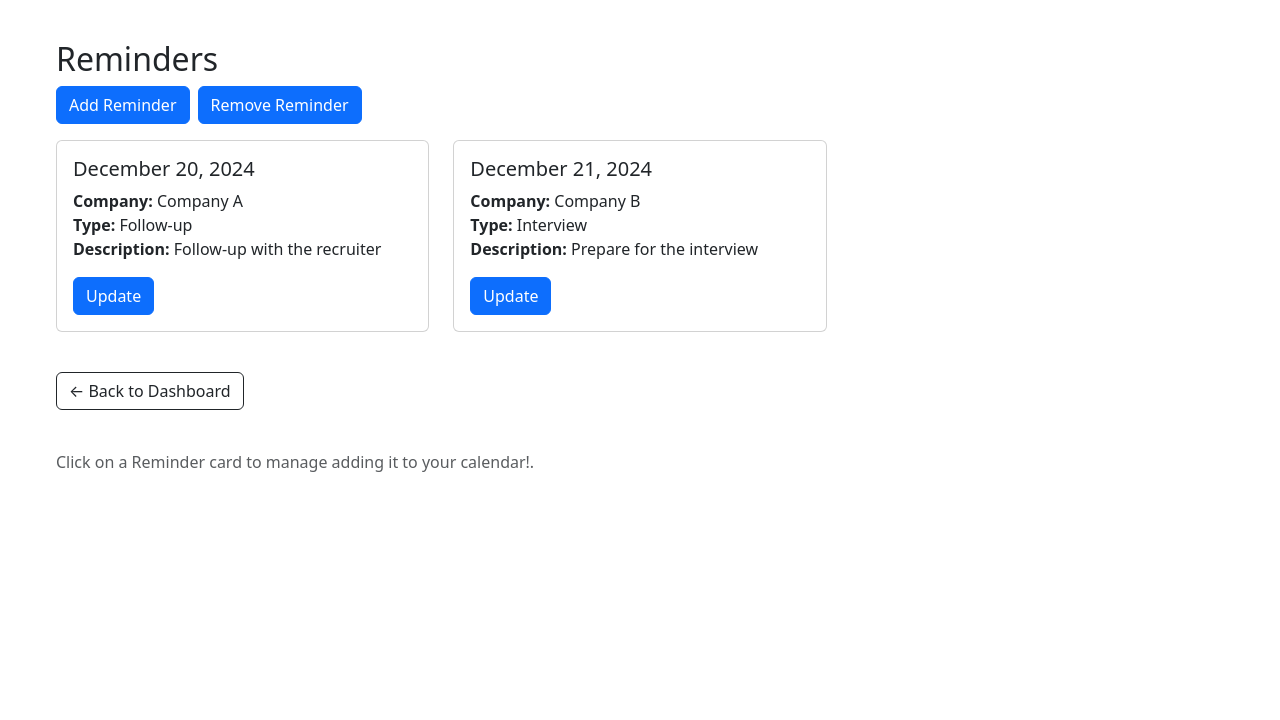
it: ReminderList › removes a reminder when the delete button is clicked
The width and height of the screenshot is (1280, 720).
Expected: the heading "Reminders" is shown, left=56, top=37, right=218, bottom=80
What coordinates should you click on to do the following:
click the button "Remove Reminder"
I would click on:
 (280, 105)
Its box is left=198, top=86, right=362, bottom=124.
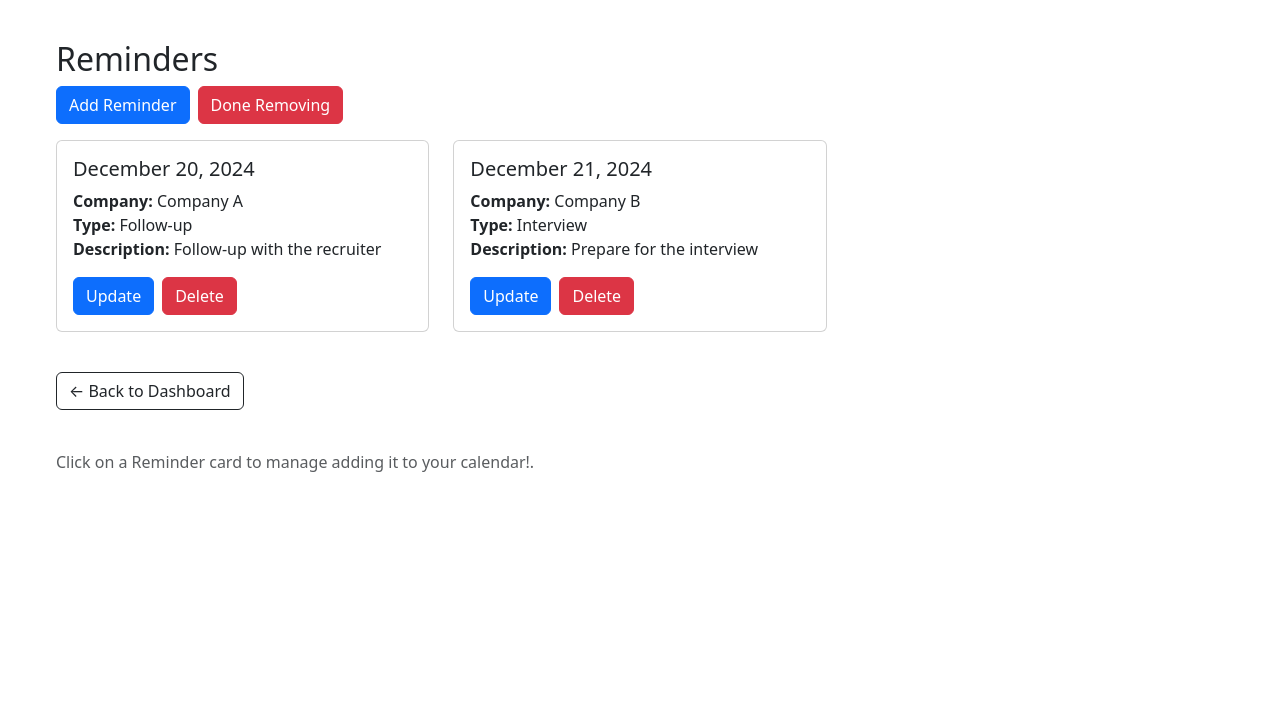
# Click the delete button
What coordinates should you click on to do the following:
click the button "Delete" below "Follow-up with the recruiter"
I would click on:
 (200, 296)
Its box is left=162, top=277, right=237, bottom=315.
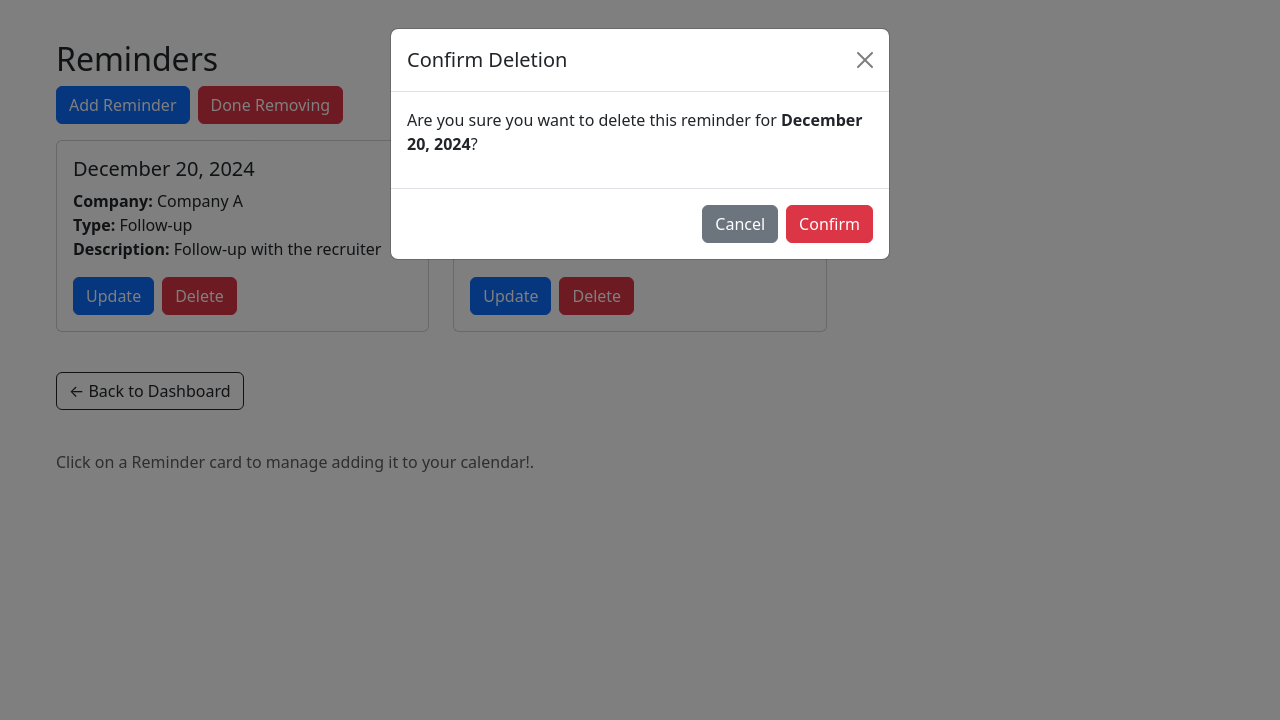
What coordinates should you click on to do the following:
click the button "Confirm"
I would click on:
 (830, 224)
Its box is left=786, top=205, right=873, bottom=243.
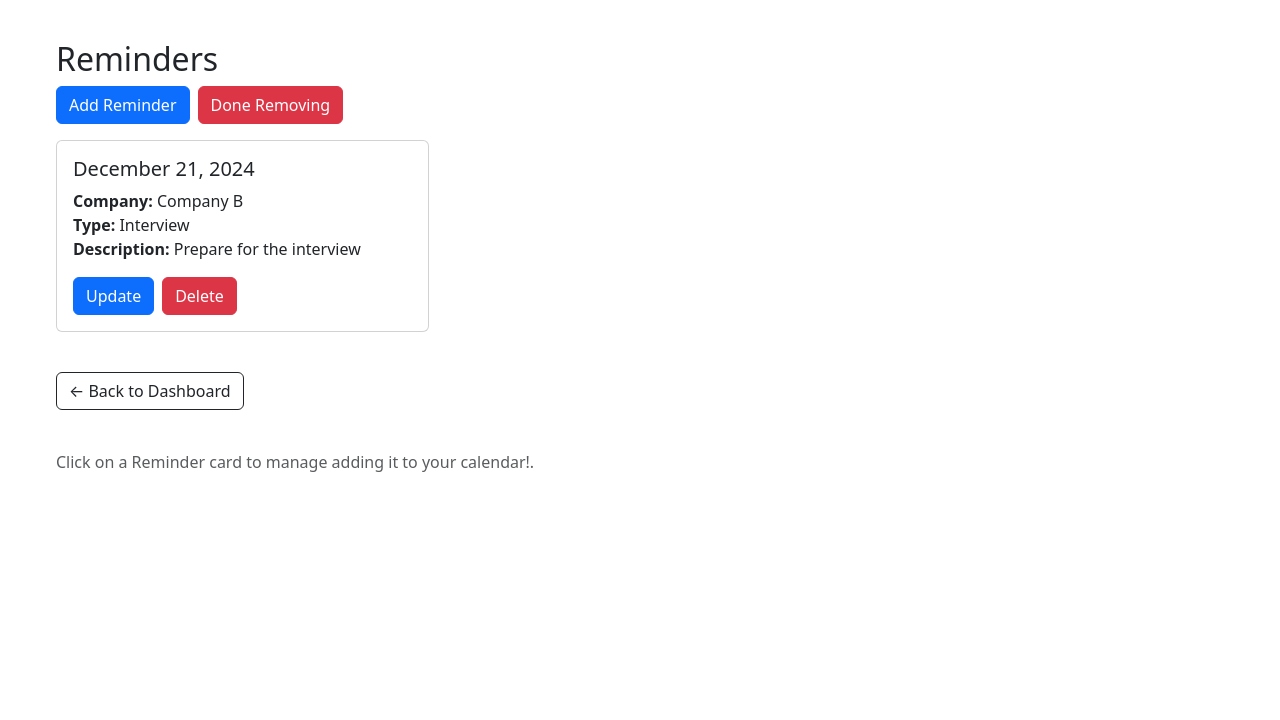
Result: the text "Company: Company A" is gone
